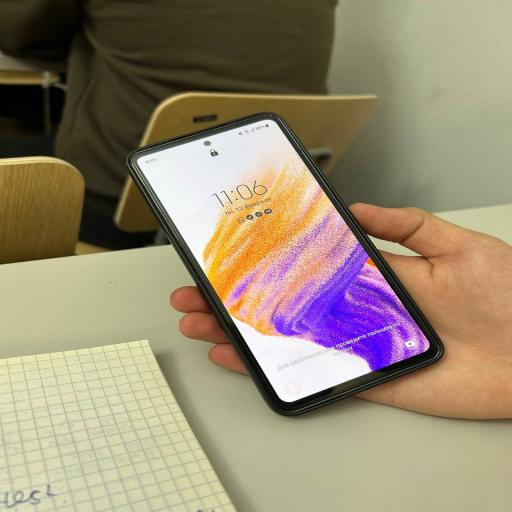bottle: (114, 92, 377, 232), (0, 156, 84, 263)
curb: (128, 113, 443, 415)
phone: (0, 205, 512, 512), (0, 52, 67, 73)
